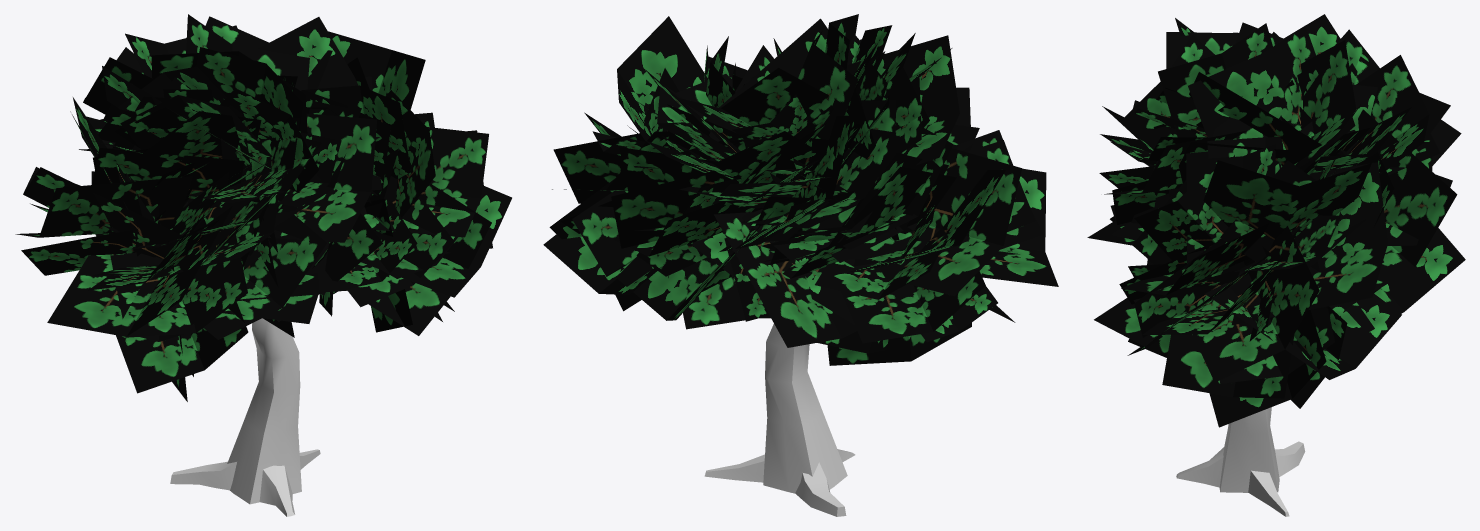
Rendered from TreeVariation.2.fbx.
3 views of the same model, side by side, from view 1: azimuth 30°, elevation 25°; view 2: azimuth 150°, elevation 25°; view 3: azimuth 270°, elevation 25° (orthographic). The views are drawn at different scales.
Parts seen in each view (by area): view 1: Tronco.004, Tronco.006; view 2: Tronco.004, Tronco.006; view 3: Tronco.004, Tronco.006.
Part boxes in pixels (x1,y1,x2,y2): Tronco.004: [15, 14, 511, 401]; Tronco.006: [170, 318, 320, 516]; Tronco.004: [543, 14, 1058, 365]; Tronco.006: [704, 324, 855, 516]; Tronco.004: [1087, 14, 1465, 427]; Tronco.006: [1176, 407, 1305, 516].
Size of the model in its own units: 901 by 863 by 685.
